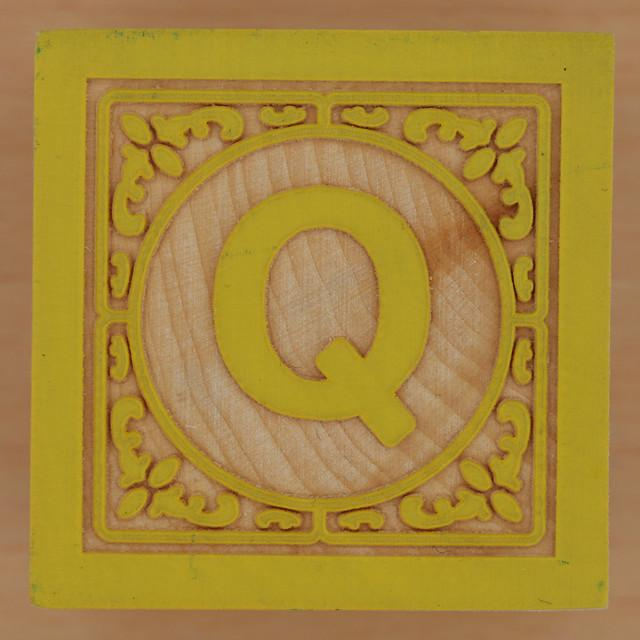Q: (204, 171, 446, 465)
